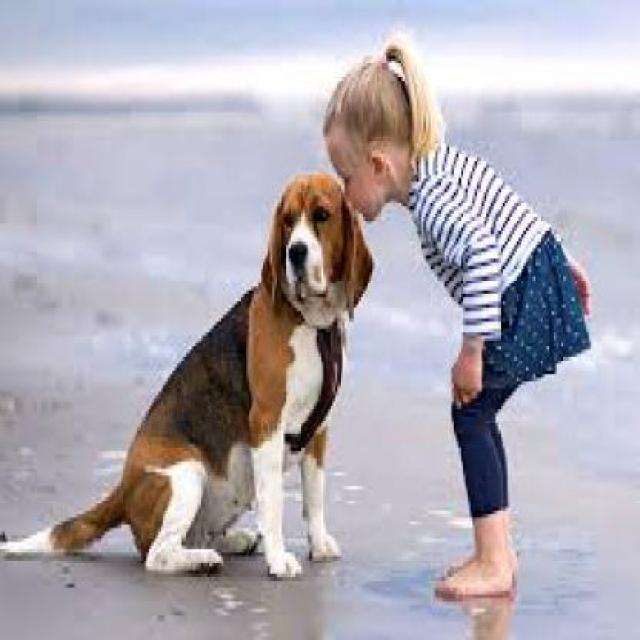Dog: (3, 166, 379, 586)
